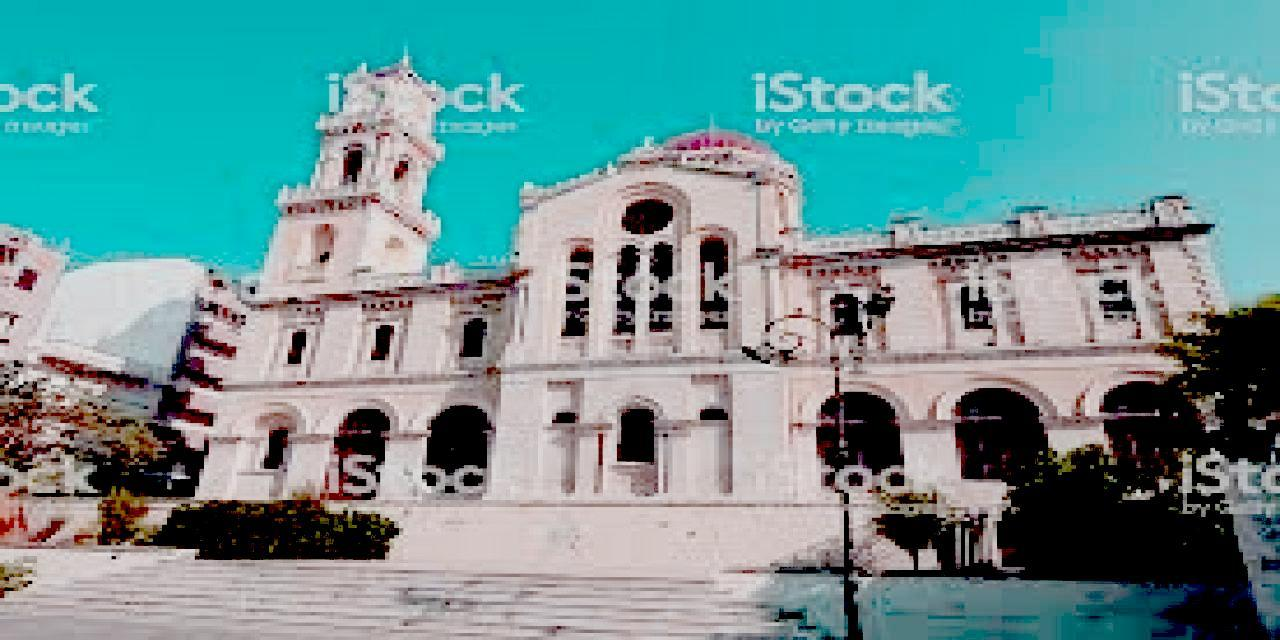Agios Minas: (201, 45, 1241, 506)
